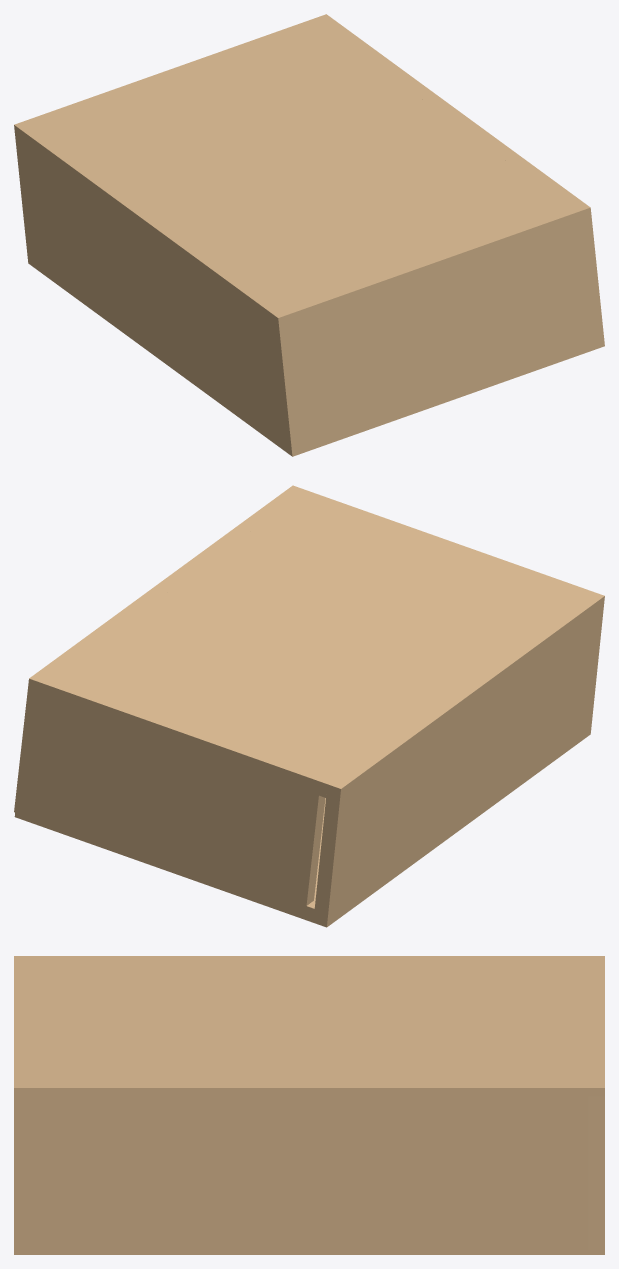
The model's file is tinker.obj.
3 views of the same model, one above another, from view 1: azimuth 30°, elevation 25°; view 2: azimuth 150°, elevation 25°; view 3: azimuth 270°, elevation 25° (orthographic). The views are drawn at different scales.
Visible parts, largest first — view 1: group_0_14860437; view 2: group_0_14860437; view 3: group_0_14860437.
Boxes of the visible parts, x1,y1,x2,y2 form: group_0_14860437: (14, 14, 604, 456); group_0_14860437: (14, 485, 604, 927); group_0_14860437: (14, 956, 604, 1254).
Size of the model in its own units: 47.94 by 24.7 by 67.
